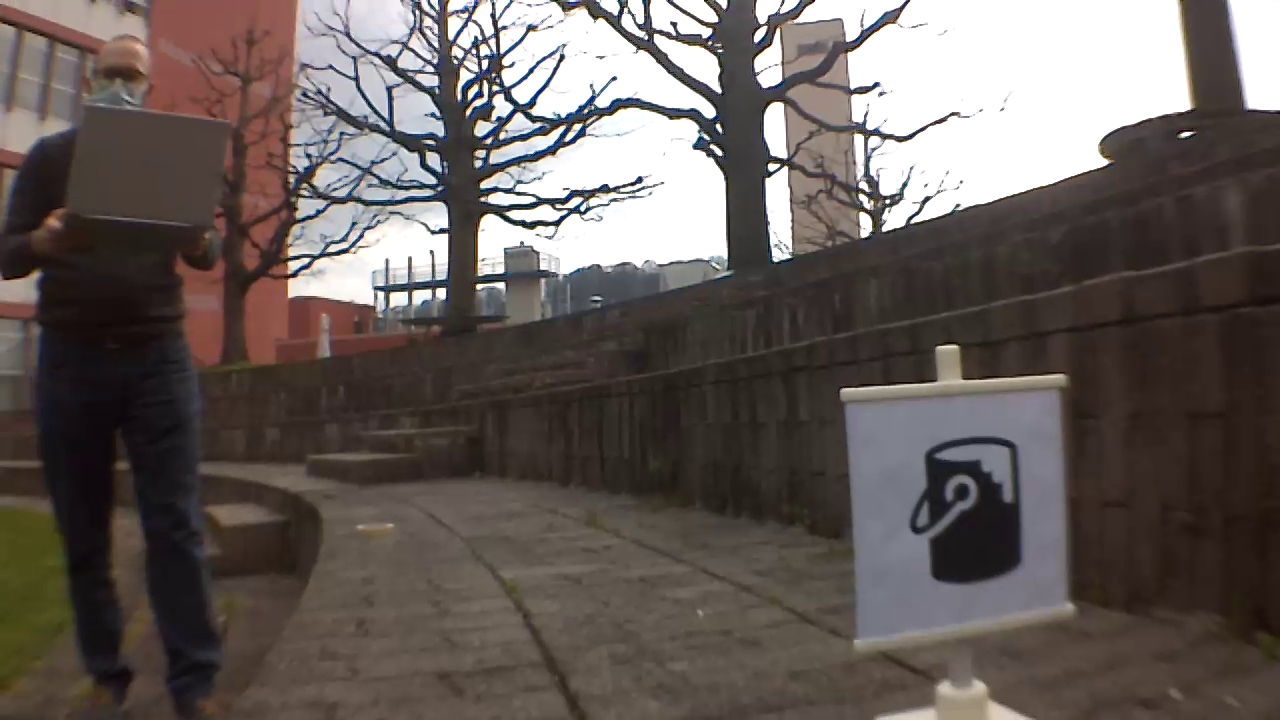bucket: (908, 431, 1028, 591)
